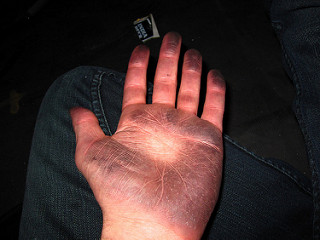palm: (103, 108, 216, 217)
